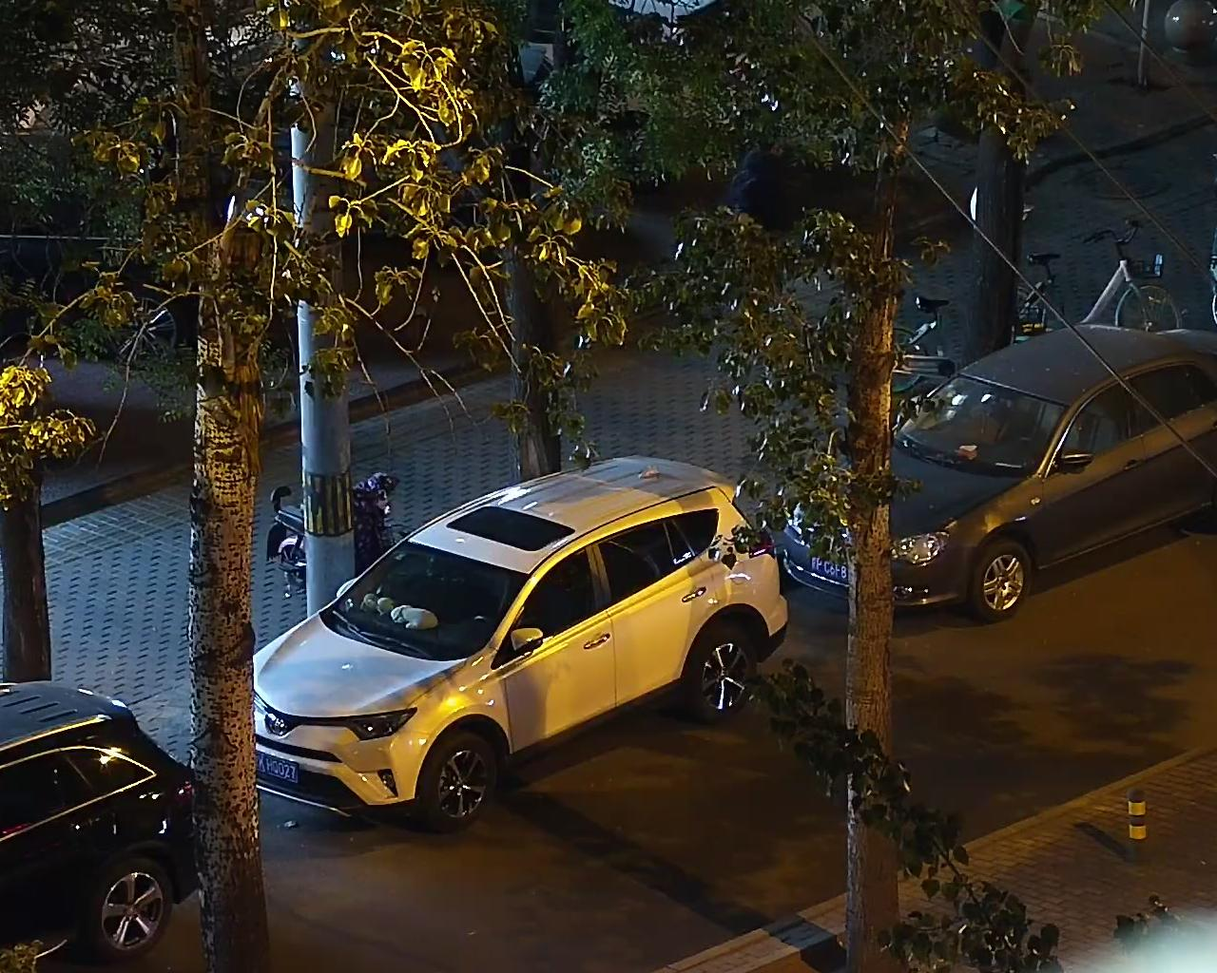person: (700, 128, 804, 313)
